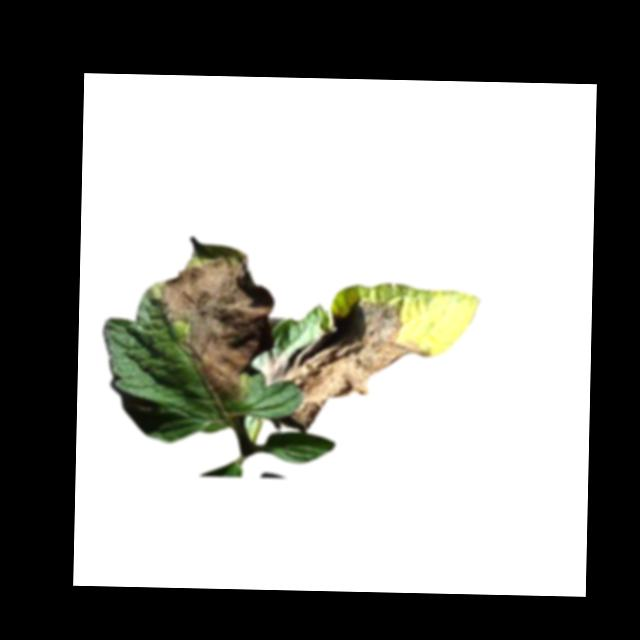Late_blight: (260, 294, 435, 434), (154, 234, 277, 404)
